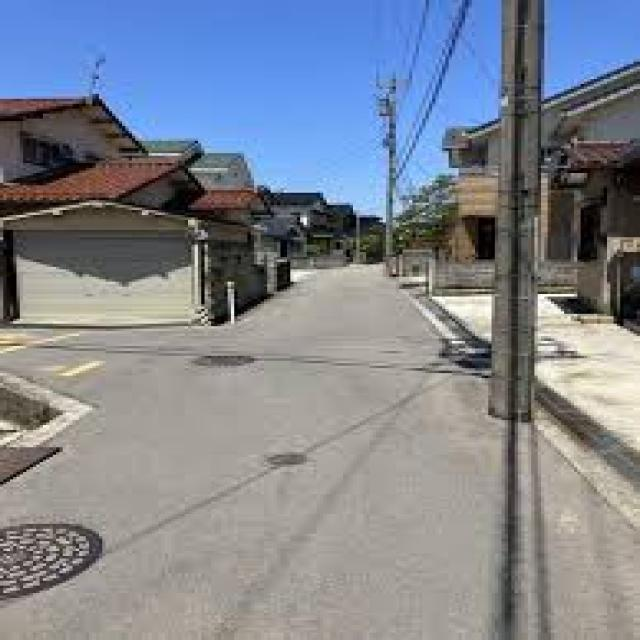manhole: (1, 523, 102, 601)
